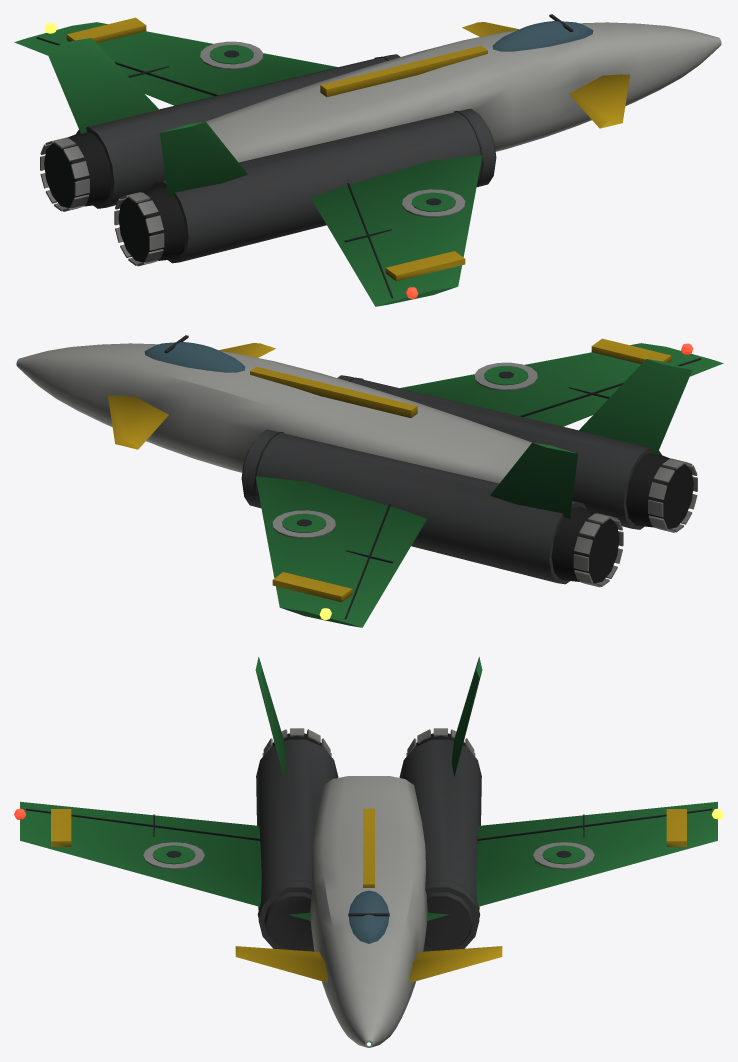
The model's file is u_raijinJ.glb.
3 renders of one model, top to bottom at view 1: azimuth 30°, elevation 25°; view 2: azimuth 150°, elevation 25°; view 3: azimuth 270°, elevation 25°, orthographic. The views are drawn at different scales.
Parts seen in each view (by area): view 1: RaijinJ_Walls, RaijinJ_Details; view 2: RaijinJ_Walls, RaijinJ_Details; view 3: RaijinJ_Walls, RaijinJ_Details.
Boxes of the visible parts, left/top/right/bottom form: RaijinJ_Walls: left=14, top=22, right=721, bottom=306; RaijinJ_Details: left=36, top=14, right=723, bottom=298; RaijinJ_Walls: left=16, top=343, right=723, bottom=627; RaijinJ_Details: left=14, top=335, right=701, bottom=619; RaijinJ_Walls: left=20, top=657, right=717, bottom=1047; RaijinJ_Details: left=14, top=728, right=723, bottom=1046.
Bounding box in the file's own units: 1.37 × 0.3082 × 1.38.
